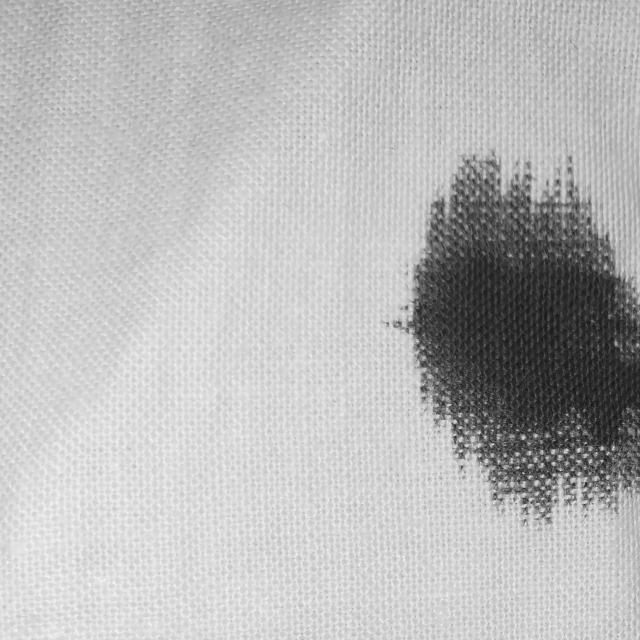Stain: (377, 148, 640, 532)
